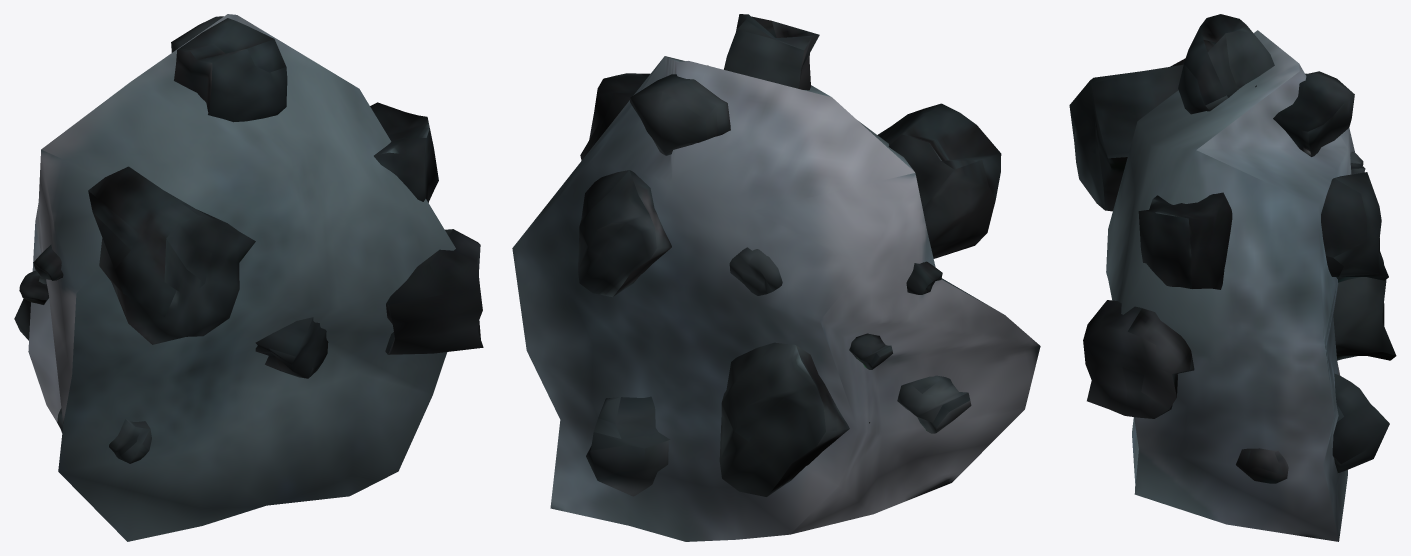
Rendered from GrafitaMinerio 1.fbx.
3 views of the same model, side by side, from view 1: azimuth 30°, elevation 25°; view 2: azimuth 150°, elevation 25°; view 3: azimuth 270°, elevation 25° (orthographic). The views are drawn at different scales.
Visible parts, largest first — view 1: MinerioGrafita; view 2: MinerioGrafita; view 3: MinerioGrafita.
Boxes of the visible parts, x1,y1,x2,y2 form: MinerioGrafita: (14,14,483,541); MinerioGrafita: (512,14,1040,541); MinerioGrafita: (1069,14,1396,541).
Bounding box in the file's own units: 607 × 631 × 418.
